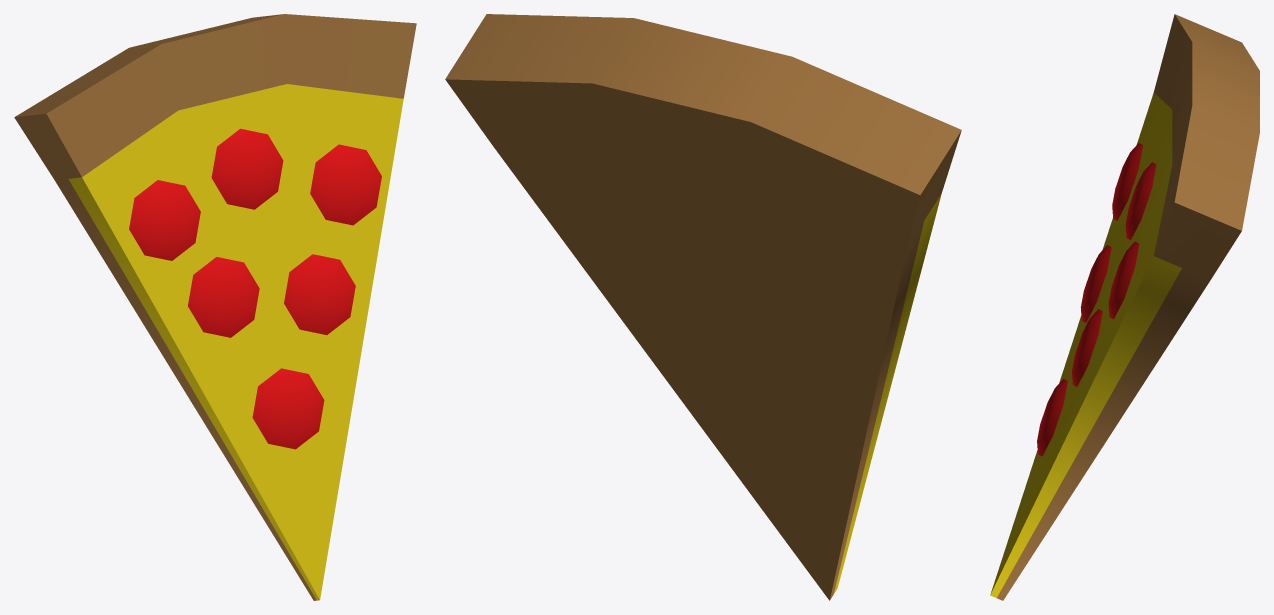
The model's file is Fbx_Item_PizzaSlice.fbx.
3 views of the same model, side by side, from view 1: azimuth 30°, elevation 25°; view 2: azimuth 150°, elevation 25°; view 3: azimuth 270°, elevation 25° (orthographic). The views are drawn at different scales.
Parts seen in each view (by area): view 1: Pizza Slice; view 2: Pizza Slice; view 3: Pizza Slice.
Boxes of the visible parts, x1=… form: Pizza Slice: x1=14, y1=14, x2=416, y2=600; Pizza Slice: x1=445, y1=14, x2=961, y2=600; Pizza Slice: x1=990, y1=14, x2=1259, y2=600.
Size of the model in its own units: 0.6525 by 0.8512 by 0.3945.
